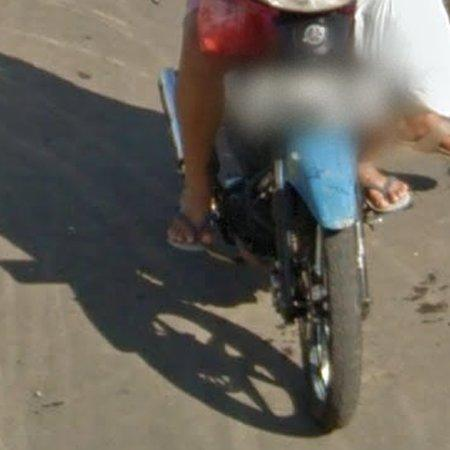motorcycles: (287, 230, 299, 254)
